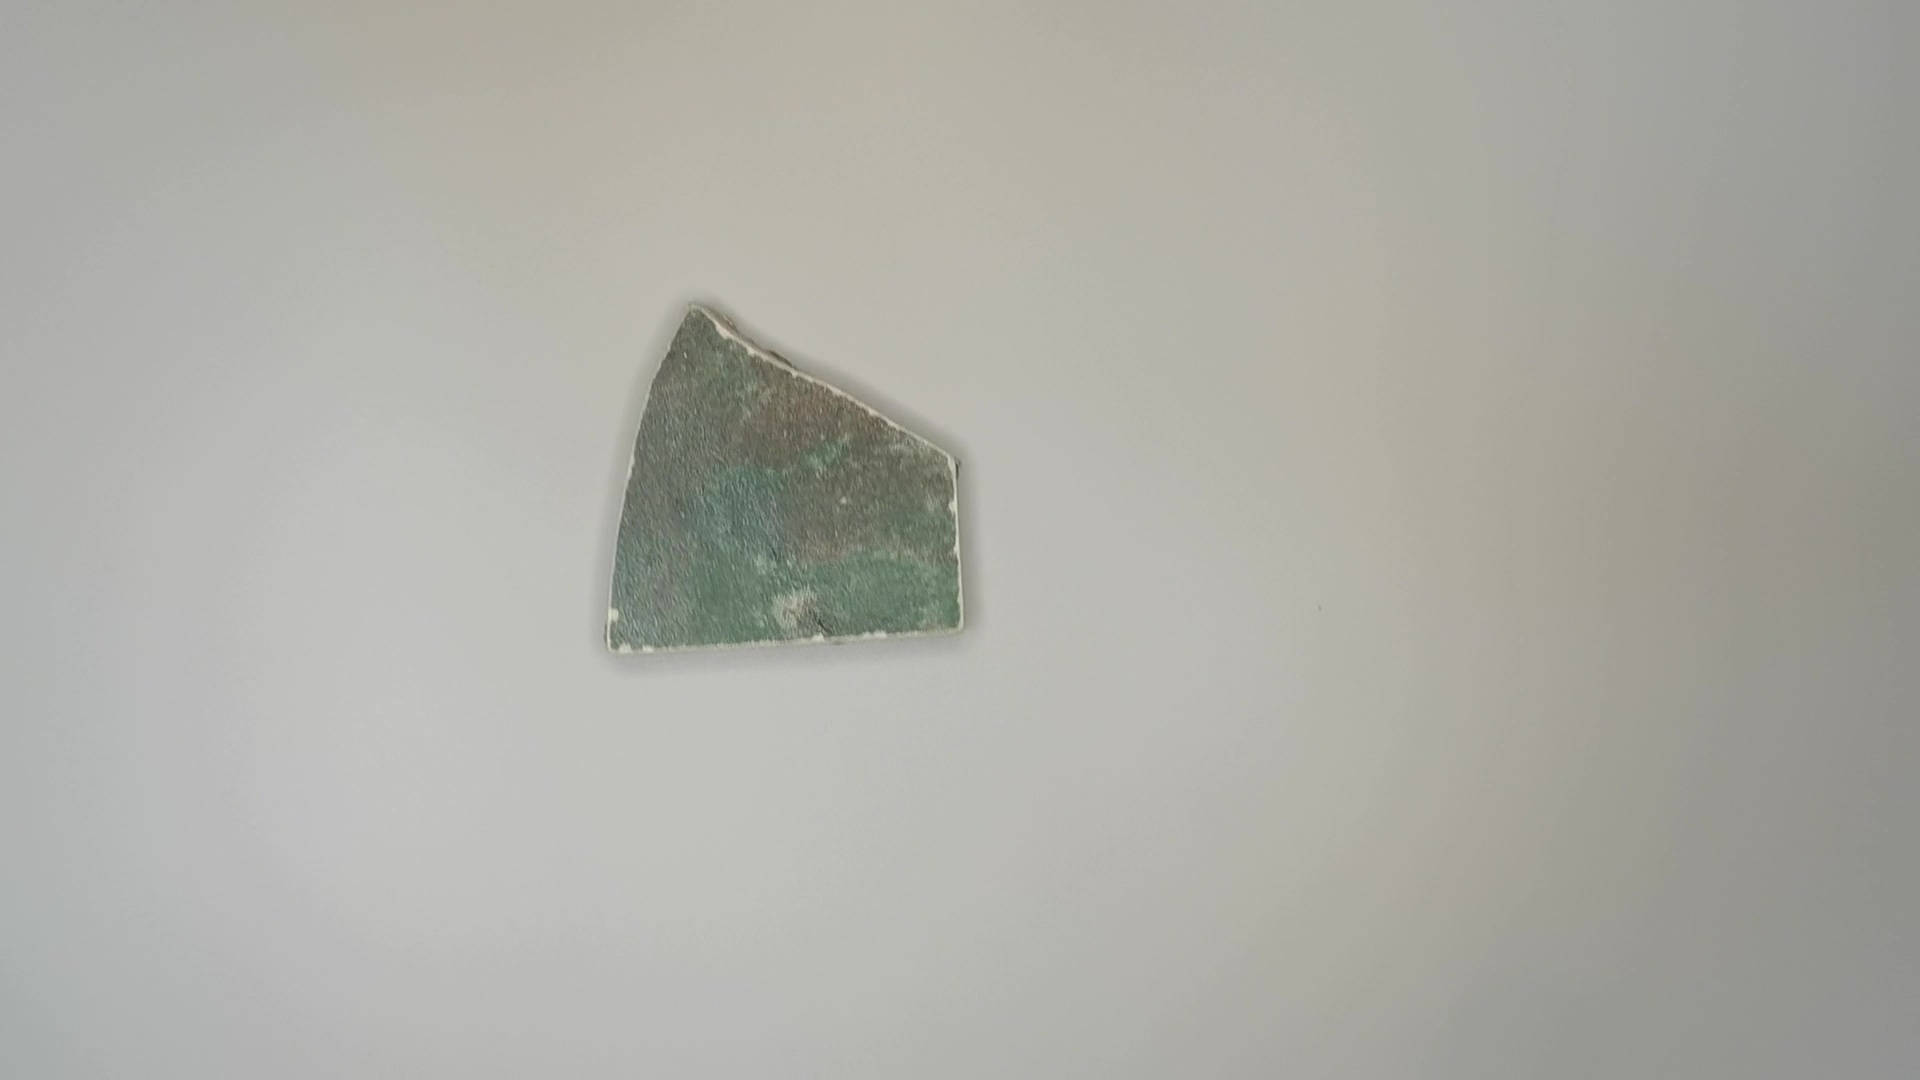ceramic: (600, 295, 971, 667)
